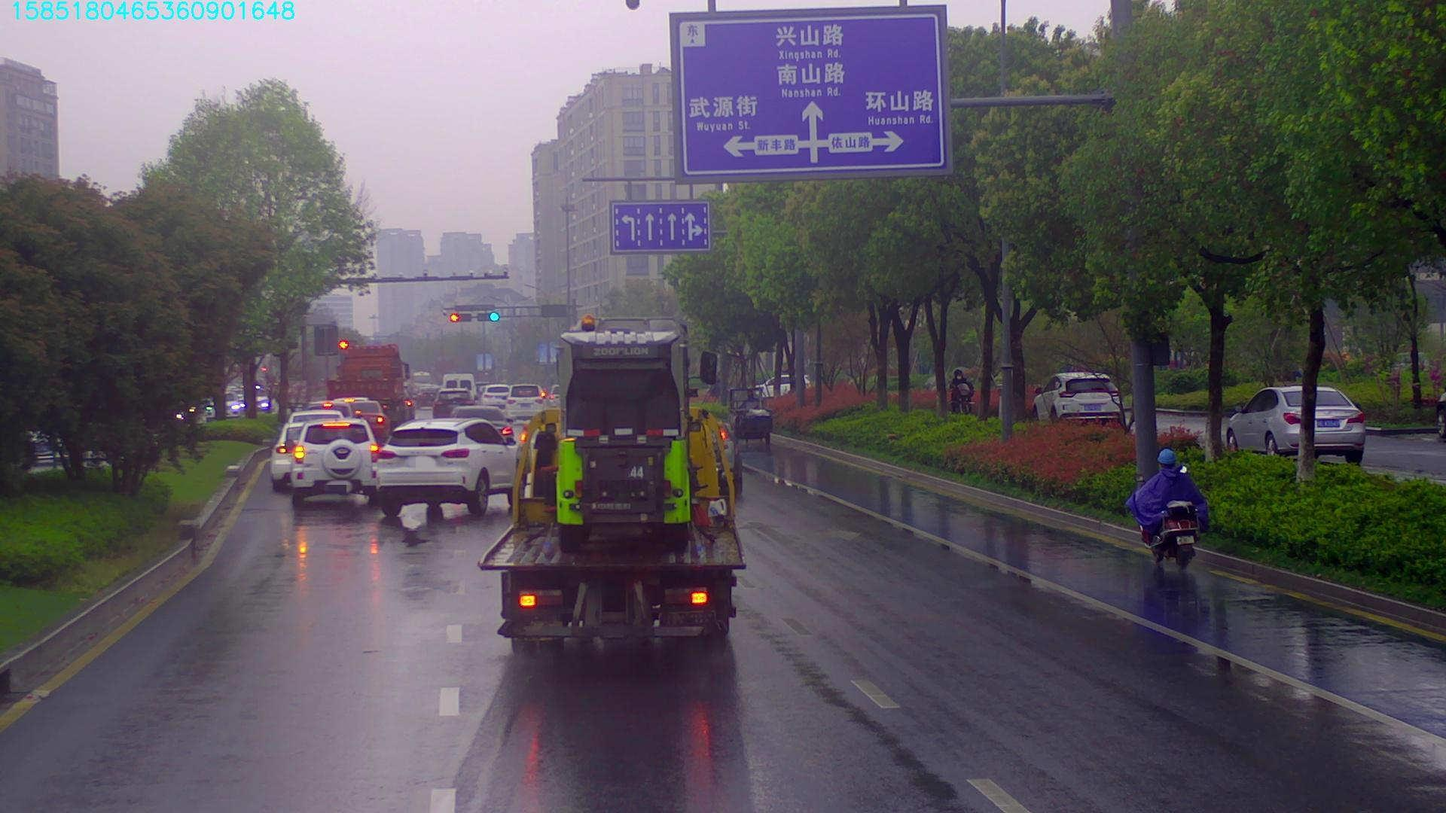green: (474, 312, 498, 322)
red: (448, 312, 471, 324)
